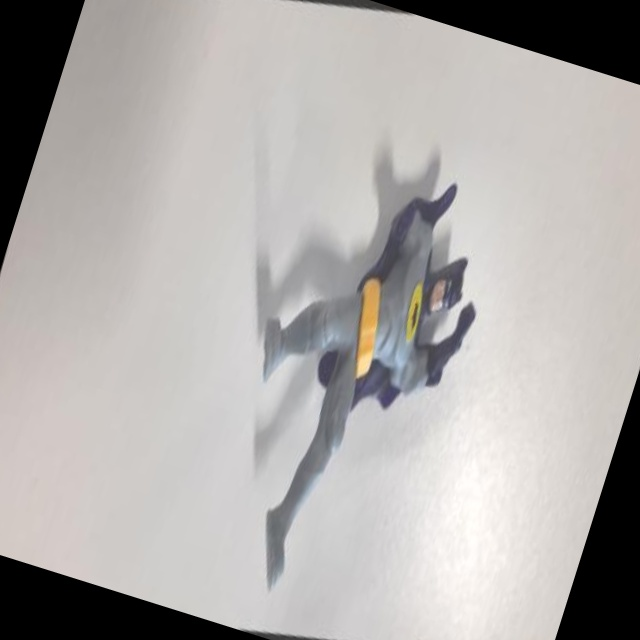Batman: (174, 128, 527, 640)
